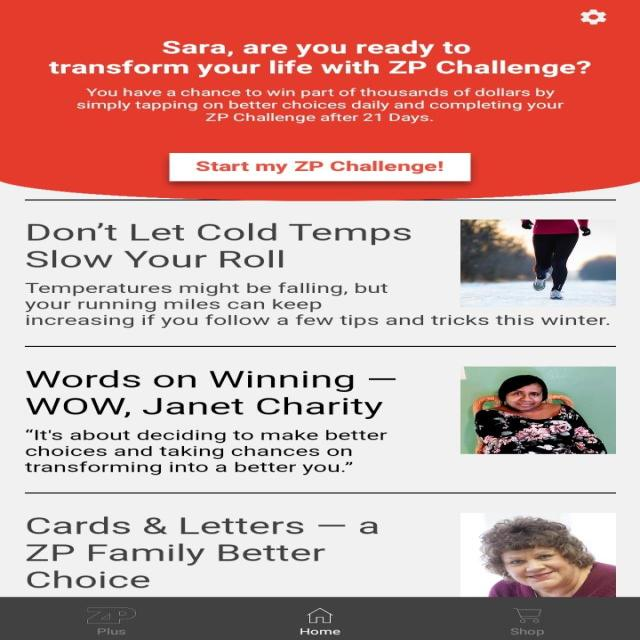Icon: (511, 608, 541, 623), (304, 607, 332, 623), (578, 9, 606, 25)
Image: (460, 366, 616, 454), (460, 219, 616, 306), (460, 512, 616, 597), (86, 606, 137, 624)
Text: (26, 515, 378, 588), (48, 40, 590, 78), (24, 369, 397, 419), (26, 222, 410, 268), (76, 88, 564, 124), (24, 429, 387, 475), (24, 282, 388, 312), (26, 314, 610, 328), (508, 627, 544, 637), (300, 626, 340, 634), (96, 627, 125, 635)
TextButton: (168, 152, 470, 182)
